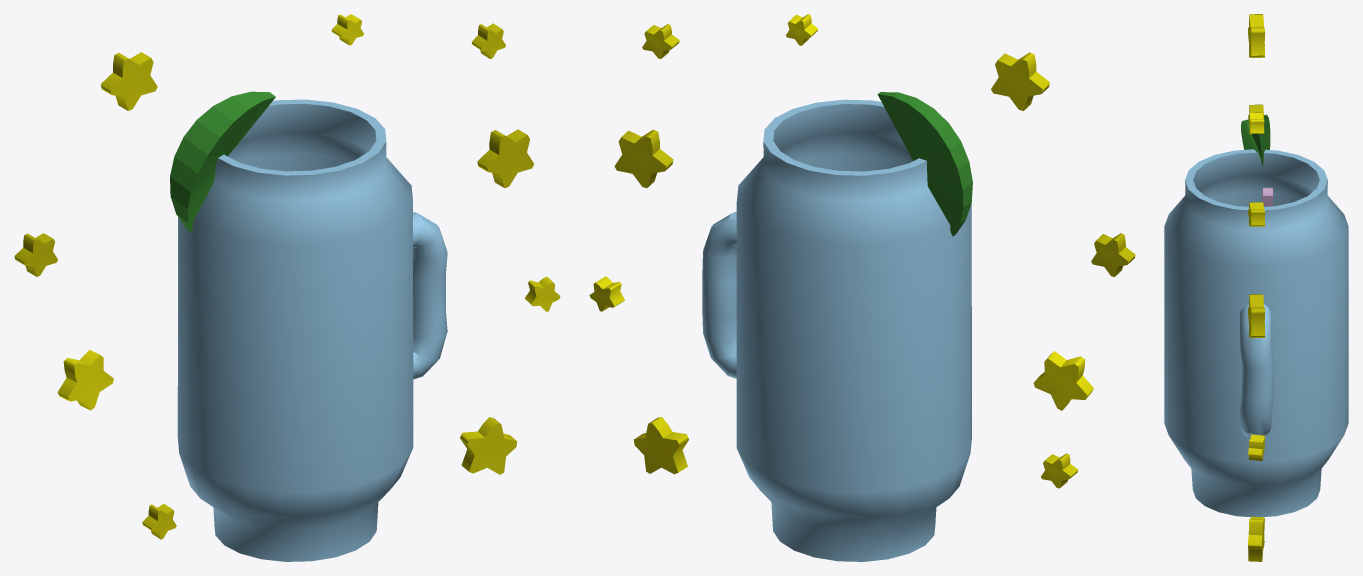
Rendered from Frasco final.fbx.
3 views of the same model, side by side, from view 1: azimuth 30°, elevation 25°; view 2: azimuth 150°, elevation 25°; view 3: azimuth 270°, elevation 25° (orthographic). The views are drawn at different scales.
Parts seen in each view (by area): view 1: Frasco, Limon, Estrella_grande_3, Estrella_grande_1, Estrella_grande_5, Estrella_grande_2, Estrella_pequeña_1, estrella_pequeña_6, Estrella_pequeña_5, Estrella_pequeña_4, Estrella_pequeña_2; view 2: Frasco, Limon, Estrella_grande_5, Estrella_grande_1, Estrella_grande_2, Estrella_grande_3, Estrella_pequeña_1, estrella_pequeña_6, Estrella_pequeña_5, Estrella_pequeña_4; view 3: Frasco, Limon, Estrella_grande_3, Estrella_grande_1, Estrella_grande_5, Estrella_pequeña_4, Estrella_pequeña_5, Estrella_pequeña_2.
Boxes of the visible parts, x1,y1,x2,y2 form: Frasco: [177, 99, 447, 561]; Limon: [170, 91, 275, 232]; Estrella_grande_3: [460, 417, 517, 474]; Estrella_grande_1: [477, 129, 533, 187]; Estrella_grande_5: [100, 52, 157, 110]; Estrella_grande_2: [57, 349, 113, 410]; Estrella_pequeña_1: [14, 233, 57, 276]; estrella_pequeña_6: [142, 504, 176, 539]; Estrella_pequeña_5: [471, 23, 505, 59]; Estrella_pequeña_4: [524, 276, 560, 311]; Estrella_pequeña_2: [331, 14, 363, 45]; Frasco: [702, 99, 971, 561]; Limon: [877, 92, 972, 236]; Estrella_grande_5: [991, 52, 1049, 110]; Estrella_grande_1: [614, 129, 673, 187]; Estrella_grande_2: [1033, 351, 1093, 410]; Estrella_grande_3: [634, 417, 688, 474]; Estrella_pequeña_1: [1091, 233, 1135, 276]; estrella_pequeña_6: [1041, 453, 1078, 488]; Estrella_pequeña_5: [642, 24, 679, 58]; Estrella_pequeña_4: [589, 276, 624, 311]; Frasco: [1164, 149, 1348, 517]; Limon: [1241, 114, 1270, 165]; Estrella_grande_3: [1248, 516, 1264, 561]; Estrella_grande_1: [1248, 294, 1265, 338]; Estrella_grande_5: [1248, 14, 1265, 57]; Estrella_pequeña_4: [1248, 434, 1264, 460]; Estrella_pequeña_5: [1248, 202, 1265, 226]; Estrella_pequeña_2: [1248, 112, 1264, 134].
Size of the model in its own units: 20.29 by 18.64 by 7.58.
